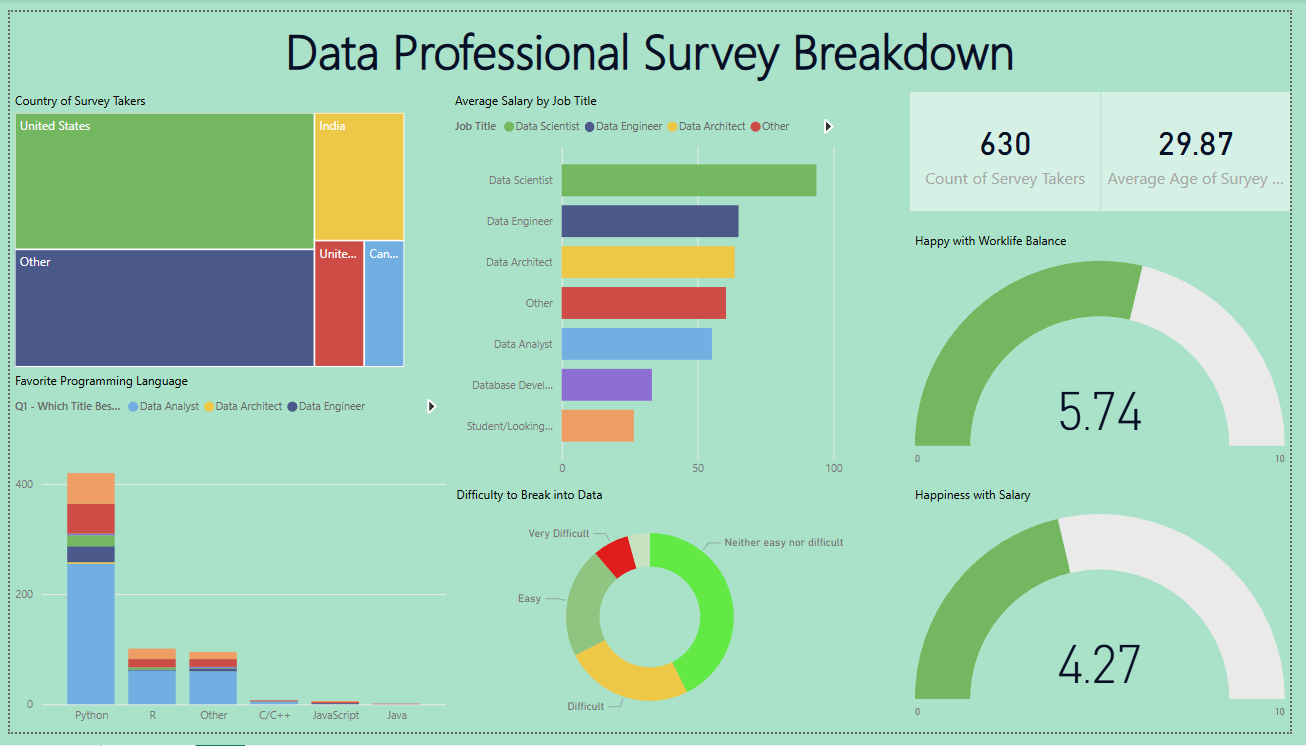

What the dashboard file says about the page in this screenshot:
{"tool":"powerbi","page":{"name":"Page 1","canvas":[1280,720],"ordinal":0},"visuals":[{"type":"textbox","box":[0,0,1280.3,79.6],"z":0},{"type":"card","fields":{"Values":["CountNonNull(Data Professional Survey.Unique ID)"]},"box":[900.2,79.6,190.7,119.4],"z":1000},{"type":"card","fields":{"Values":["Avg(Data Professional Survey.Q10 - Current Age)"]},"box":[1090.9,79.6,189.4,119.4],"z":2000},{"type":"barChart","title":"Average Salary by Job Title","fields":{"Category":["Data Professional Survey.Q1 - Which Title Best Fits your Current Role?.1"],"Y":["Avg(Data Professional Survey.Average Salary)"],"Series":["Data Professional Survey.Q1 - Which Title Best Fits your Current Role?.1"]},"box":[440.5,79.6,397.9,393.8],"z":3000},{"type":"columnChart","title":"Favorite Programming Language","fields":{"Category":["Data Professional Survey.Q5 - Favorite Programming Language.1"],"Y":["CountNonNull(Data Professional Survey.Unique ID)"],"Series":["Data Professional Survey.Q1 - Which Title Best Fits your Current Role?.1"]},"box":[0,360,441.2,360],"z":4000},{"type":"treemap","title":"Country of Survey Takers","fields":{"Group":["Data Professional Survey.Q11 - Which Country do you live in?.1"],"Values":["CountNonNull(Data Professional Survey.Q11 - Which Country do you live in?.1)"]},"box":[0,79.6,399.3,279.9],"z":5000},{"type":"gauge","title":"Happy with Worklife Balance","fields":{"Y":["Avg(Data Professional Survey.Q6 - How Happy are you in your Current Position with the following? (Work/Life Balance))"],"MinValue":["Min(Data Professional Survey.Q6 - How Happy are you in your Current Position with the following? (Work/Life Balance))1"],"MaxValue":["Max(Data Professional Survey.Q6 - How Happy are you in your Current Position with the following? (Work/Life Balance))2"]},"box":[900,220,380,247.5],"z":6000},{"type":"gauge","title":"Happiness with Salary","fields":{"Y":["Avg(Data Professional Survey.Q6 - How Happy are you in your Current Position with the following? (Salary))"],"MinValue":["Min(Data Professional Survey.Q6 - How Happy are you in your Current Position with the following? (Salary))"],"MaxValue":["Max(Data Professional Survey.Q6 - How Happy are you in your Current Position with the following? (Salary))"]},"box":[900,473.8,380,246.2],"z":7000},{"type":"donutChart","title":"Difficulty to Break into Data","fields":{"Category":["Data Professional Survey.Q7 - How difficult was it for you to break into Data?"],"Y":["CountNonNull(Data Professional Survey.Q7 - How difficult was it for you to break into Data?)"]},"box":[441.9,473.4,397.9,247],"z":8000}]}

Visuals, with their boxes in screenshot pixels (x1, y1, x2, y2), scaled from the page's 1280x720 canvas onto the 1306x746 screenshot:
textbox: 0, 0, 1305, 82
card - CountNonNull(Data Professional Survey.Unique ID): 918, 82, 1113, 206
card - Avg(Data Professional Survey.Q10 - Current Age): 1113, 82, 1305, 206
"Average Salary by Job Title" barChart: 449, 82, 855, 490
"Favorite Programming Language" columnChart: 0, 373, 450, 745
"Country of Survey Takers" treemap: 0, 82, 407, 372
"Happy with Worklife Balance" gauge: 918, 228, 1305, 484
"Happiness with Salary" gauge: 918, 491, 1305, 745
"Difficulty to Break into Data" donutChart: 451, 490, 857, 745
